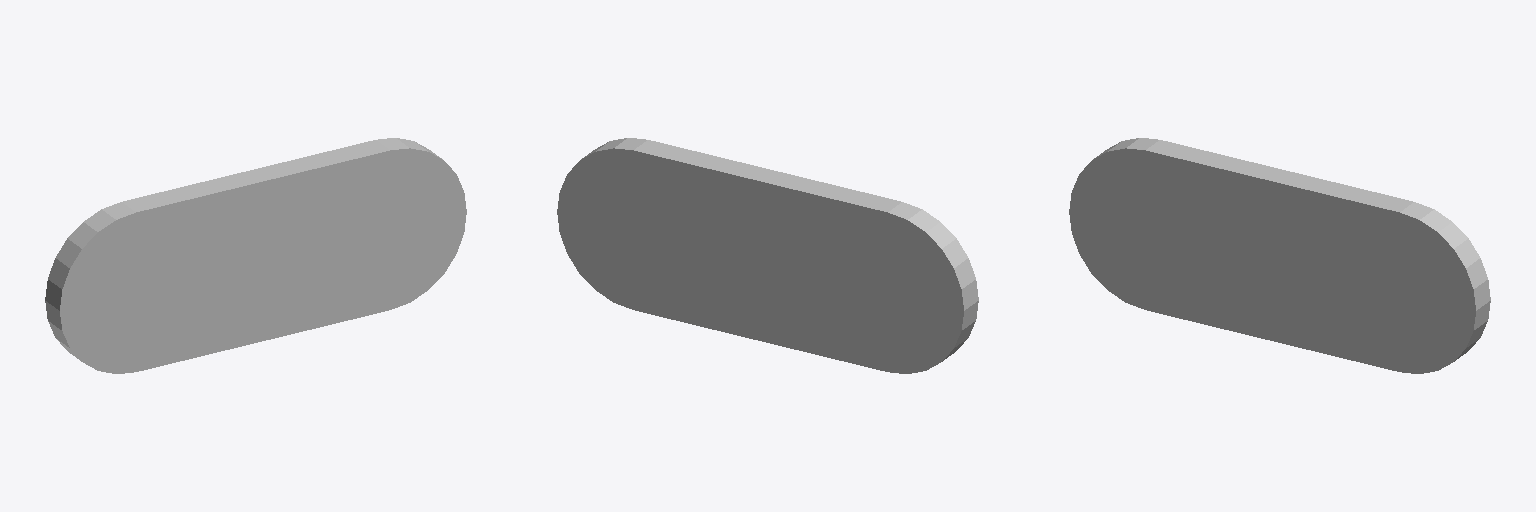
The model's file is original-14.obj.
3 renders of one model, left to right at view 1: azimuth 30°, elevation 25°; view 2: azimuth 150°, elevation 25°; view 3: azimuth 330°, elevation 25°, orthographic.
Parts seen in each view (by area): view 1: instance_4/Component_22/ID76#ID76; view 2: instance_4/Component_22/ID76#ID76; view 3: instance_4/Component_22/ID76#ID76.
Part boxes in pixels (left/top/right/bottom): instance_4/Component_22/ID76#ID76: left=45, top=138, right=466, bottom=373; instance_4/Component_22/ID76#ID76: left=557, top=138, right=978, bottom=373; instance_4/Component_22/ID76#ID76: left=1069, top=138, right=1490, bottom=373.
Bounding box in the file's own units: 0.0805 × 0.0302 × 0.005.